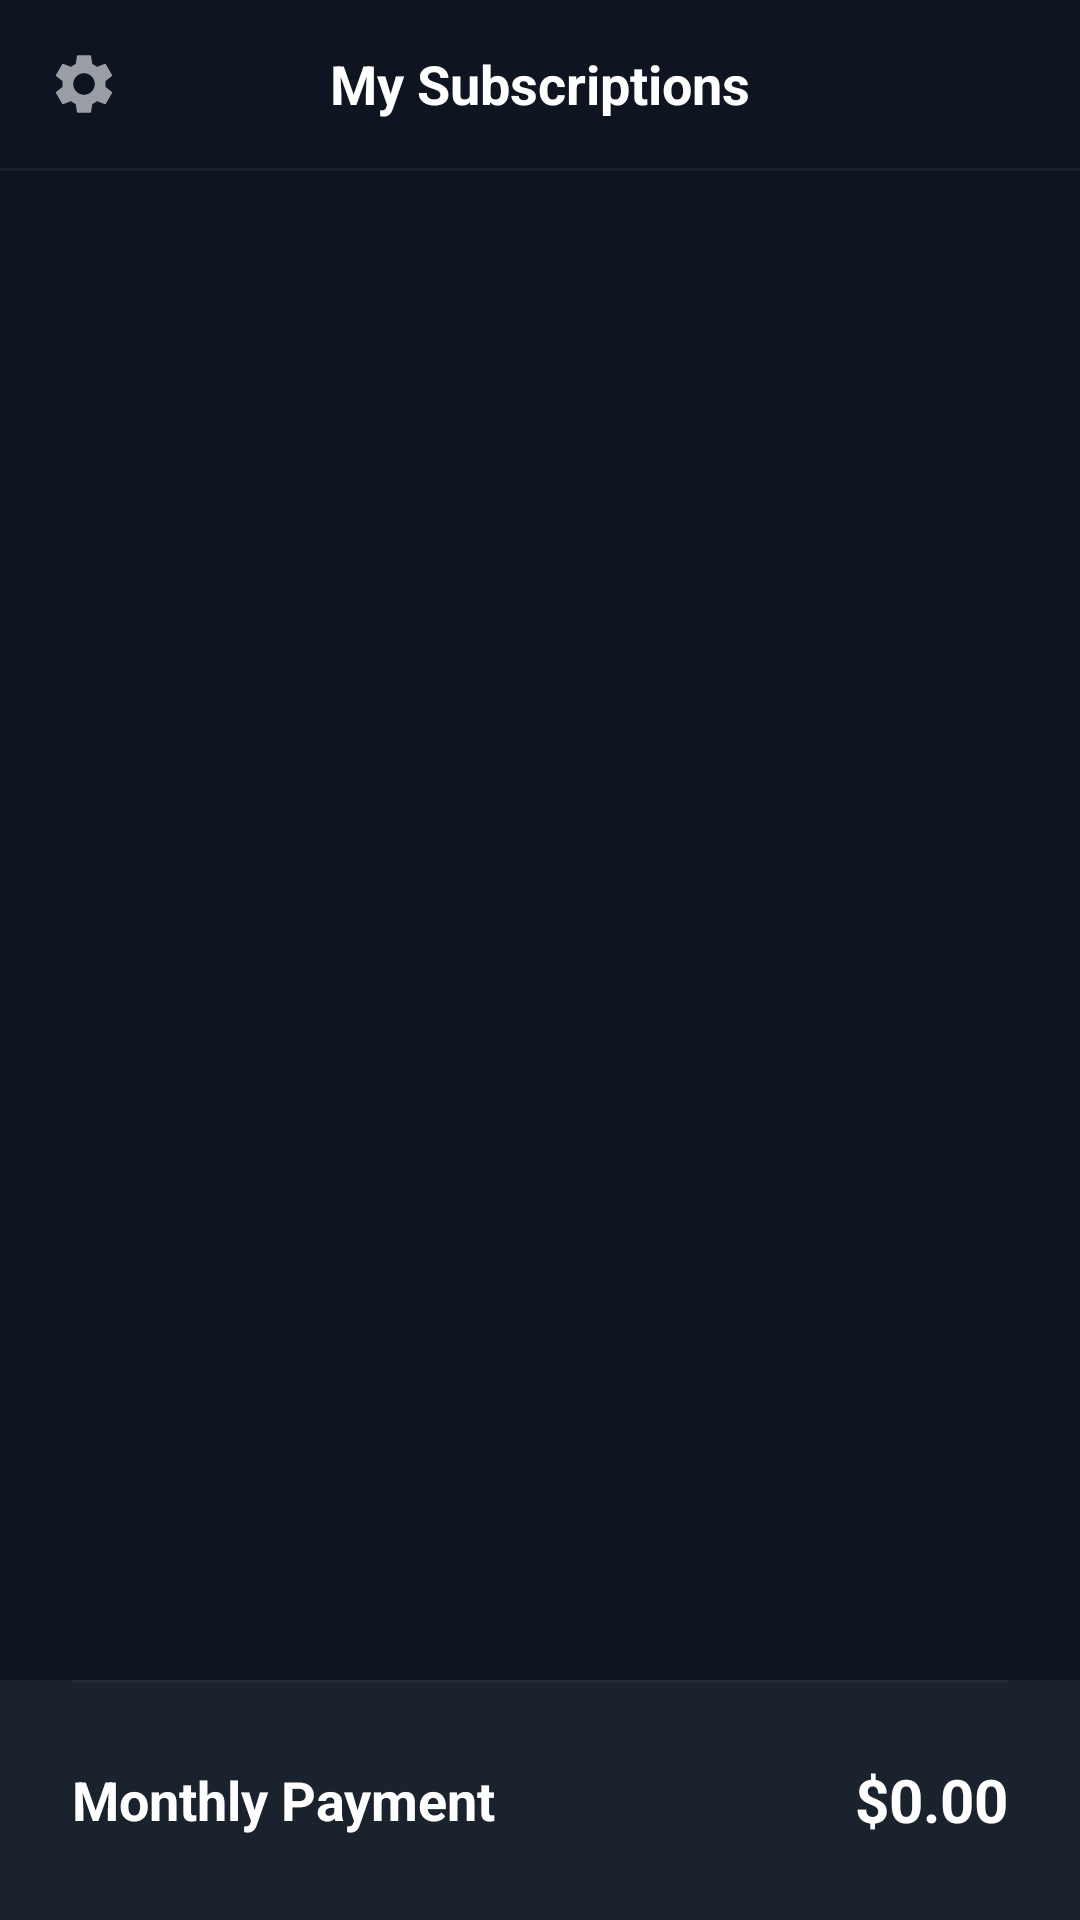

Named icons in this screenshot (1080 × 1920) and their centers, point (x, y):
settings: point (84, 84)
